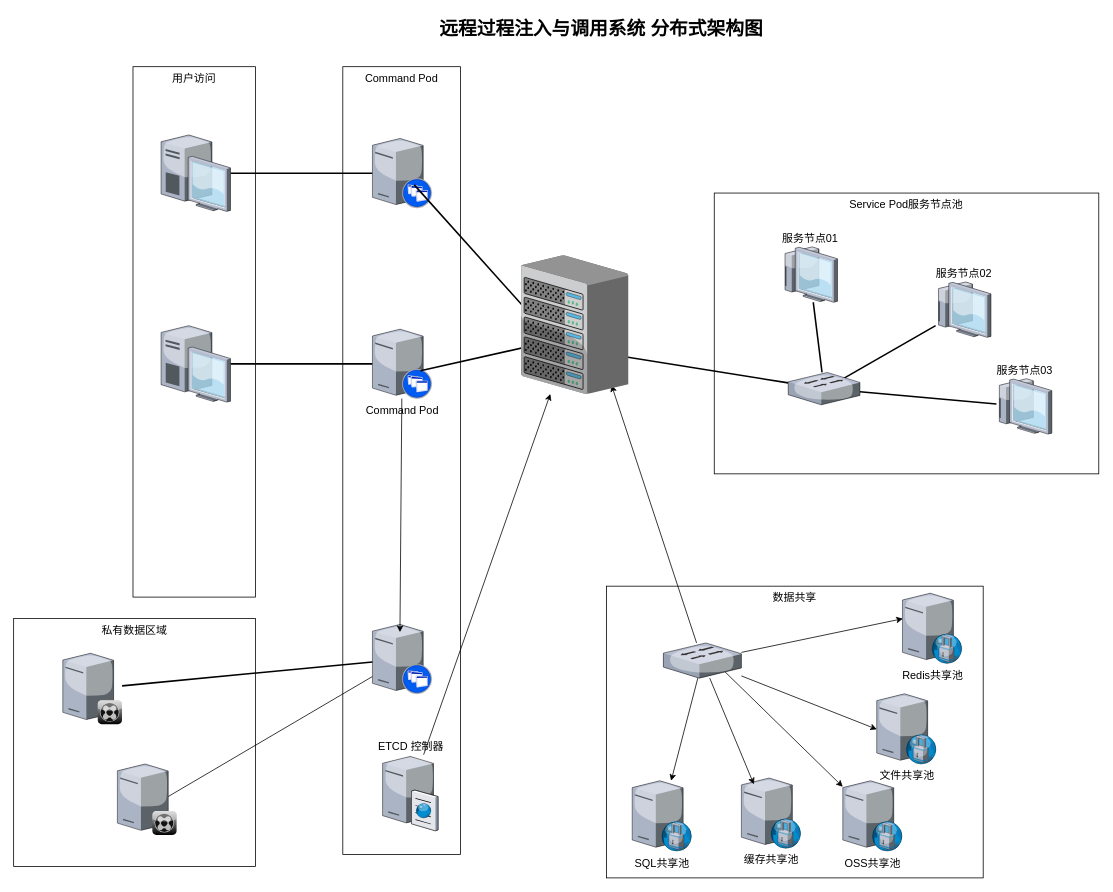
The diagram is 1113 pixels wide and 892 high, and some of its shapes have lost their labels. The shapes that lost their labels are listed below. From the top down, each one's centre as x and y in pixels, then its label:
pixel 195 173: 已分配端点Client
pixel 401 172: Nginx
pixel 574 324: 服务发现节点ETCD
pixel 195 363: 未分配端点Client
pixel 401 658: 私有数据控制
pixel 92 688: MySQL
pixel 146 799: Redis
